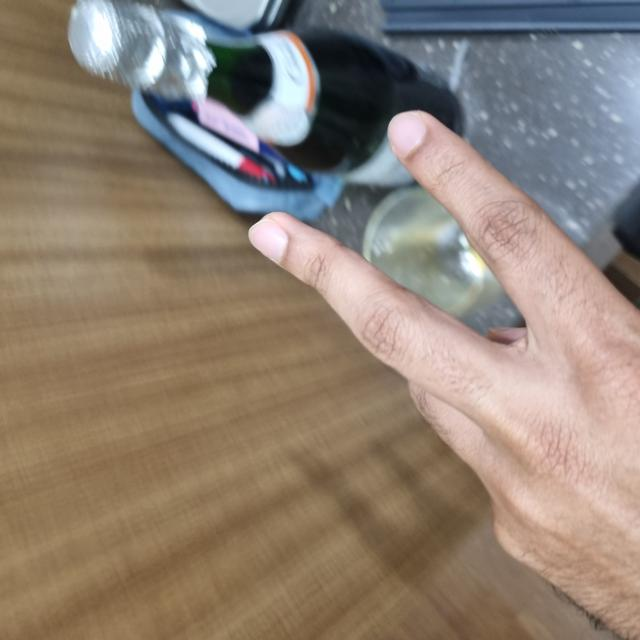Scissors: (1, 250, 534, 639)
